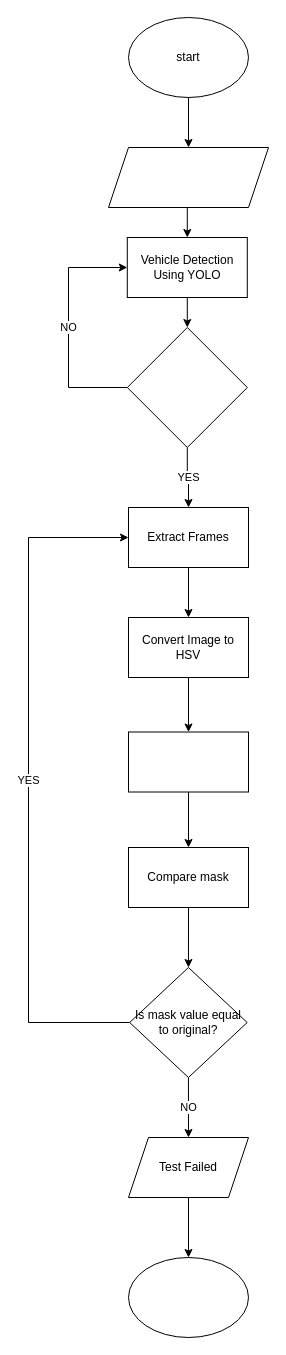
This 286x1355 diagram has some shape labels left out. The centre of each missing label's shape, as x and y in pixels:
"Generate mask of yellow lines" belongs at (188,761).
"Input Video Frames" belongs at (188,177).
"Is car detected?" belongs at (186,387).
"stop" belongs at (188,1297).
